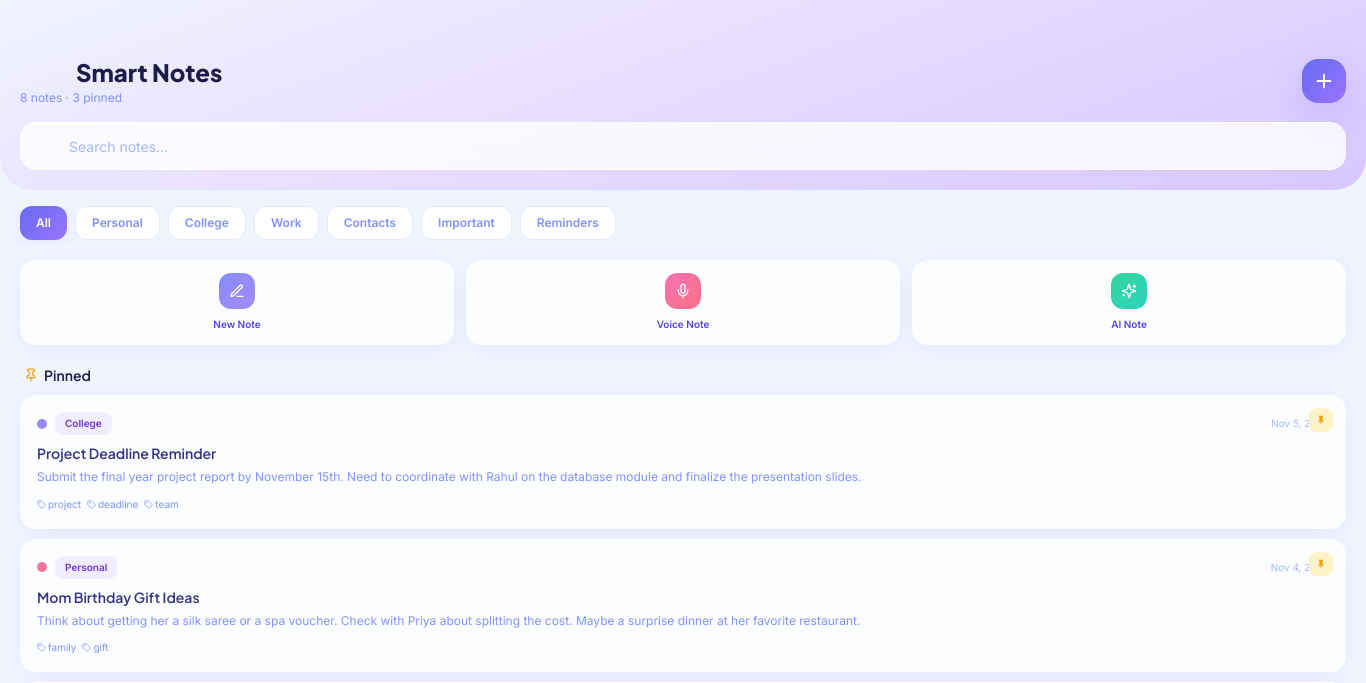
Test case: NotesScreen › filter by "College" shows only College notes
This screenshot has width=1366, height=683.
Click the button "College": [207, 223] box [168,206,246,240]
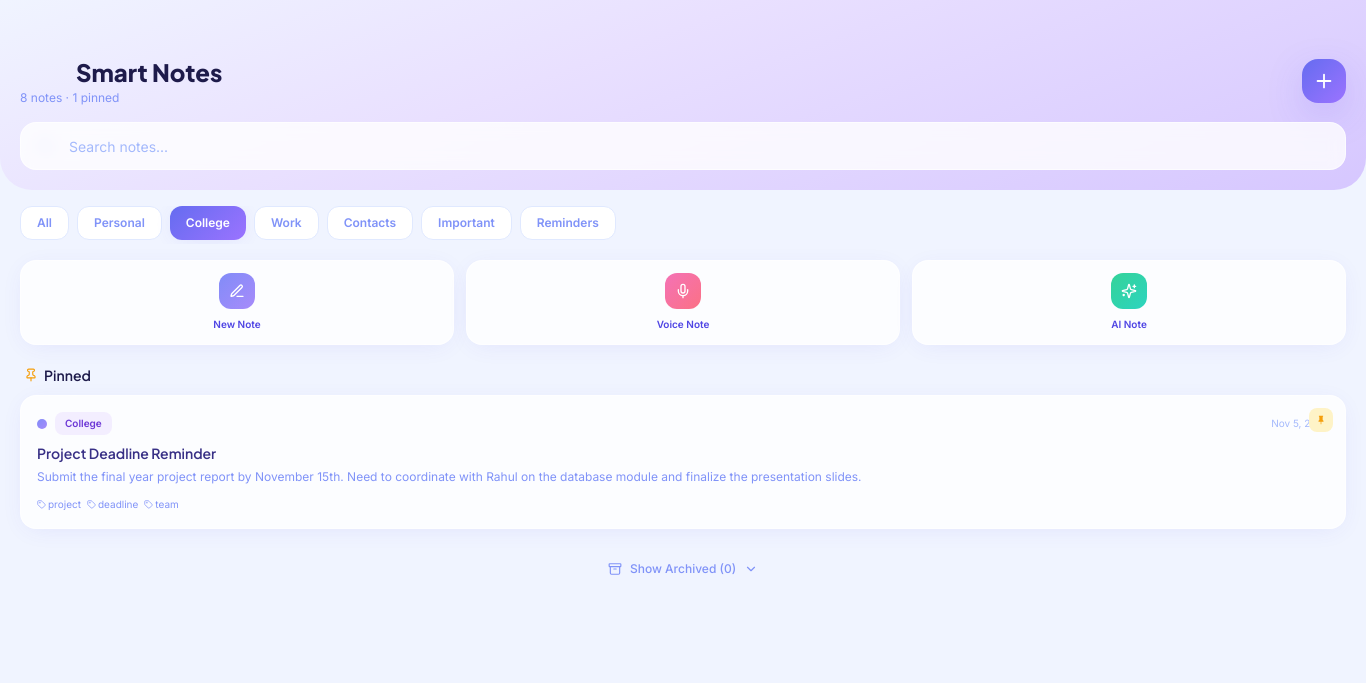
Expected: the heading "Project Deadline Reminder" is shown, [37,444,216,462]
Now the button "Mom Birthday Gift Ideas" is gone
